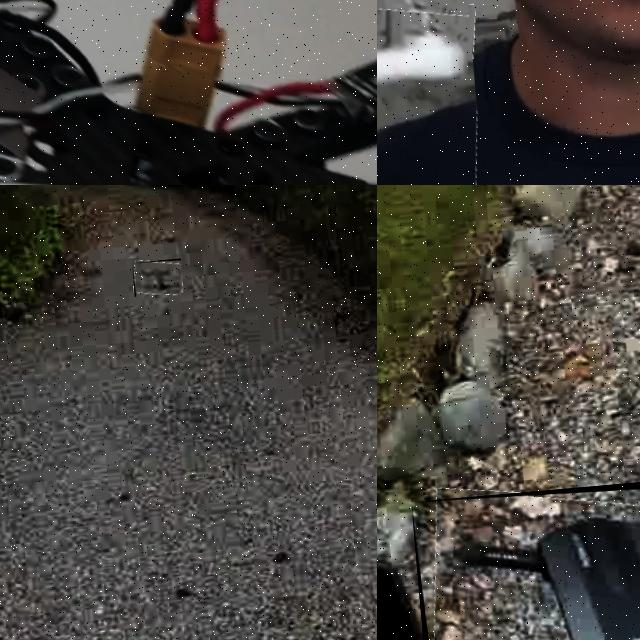drone: (0, 0, 377, 185), (411, 470, 640, 640), (377, 0, 486, 185), (132, 258, 184, 296)
